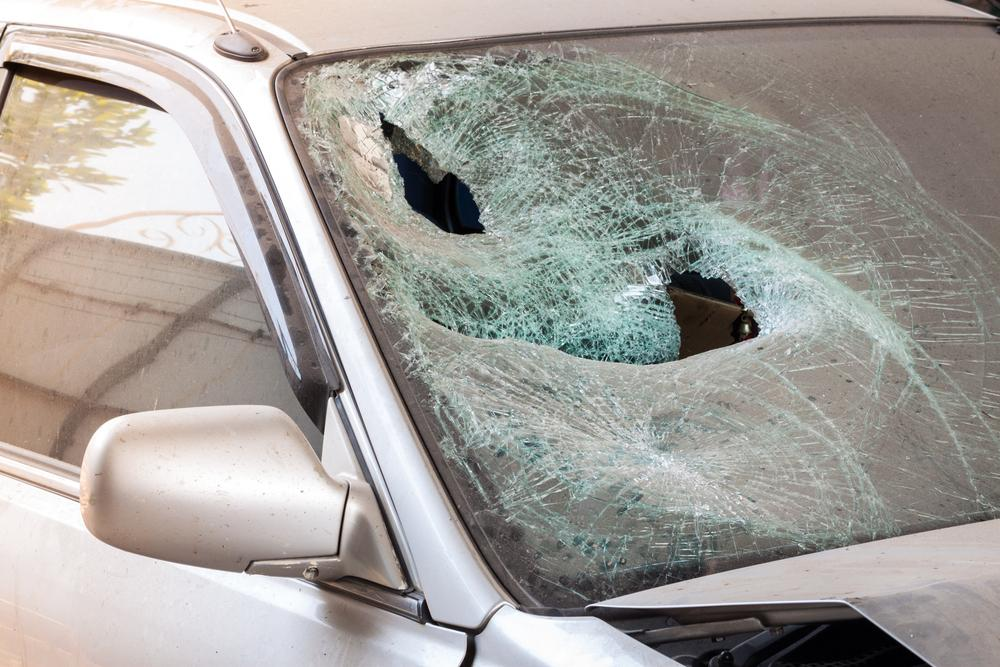glass shatter: (288, 22, 1000, 608)
